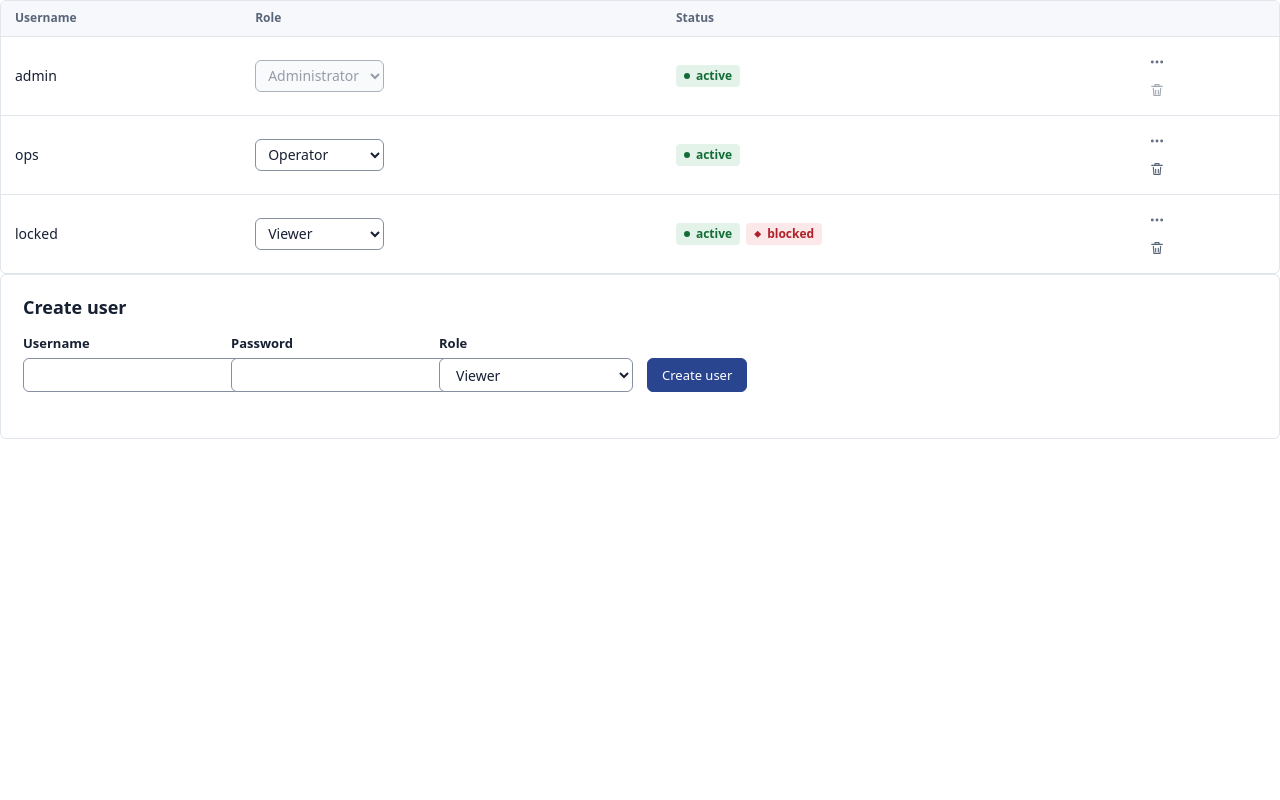
Test: UsersTab delete and unblock › tells the page once a row is deleted, so it can take the keyboard focus (the row and its button are gone), and not when the delete is refused
Expected: the text "ops" is shown, [1, 116, 241, 195]
Step 1. Click the button named "Delete locked" → (1157, 248), box [1143, 234, 1171, 262]
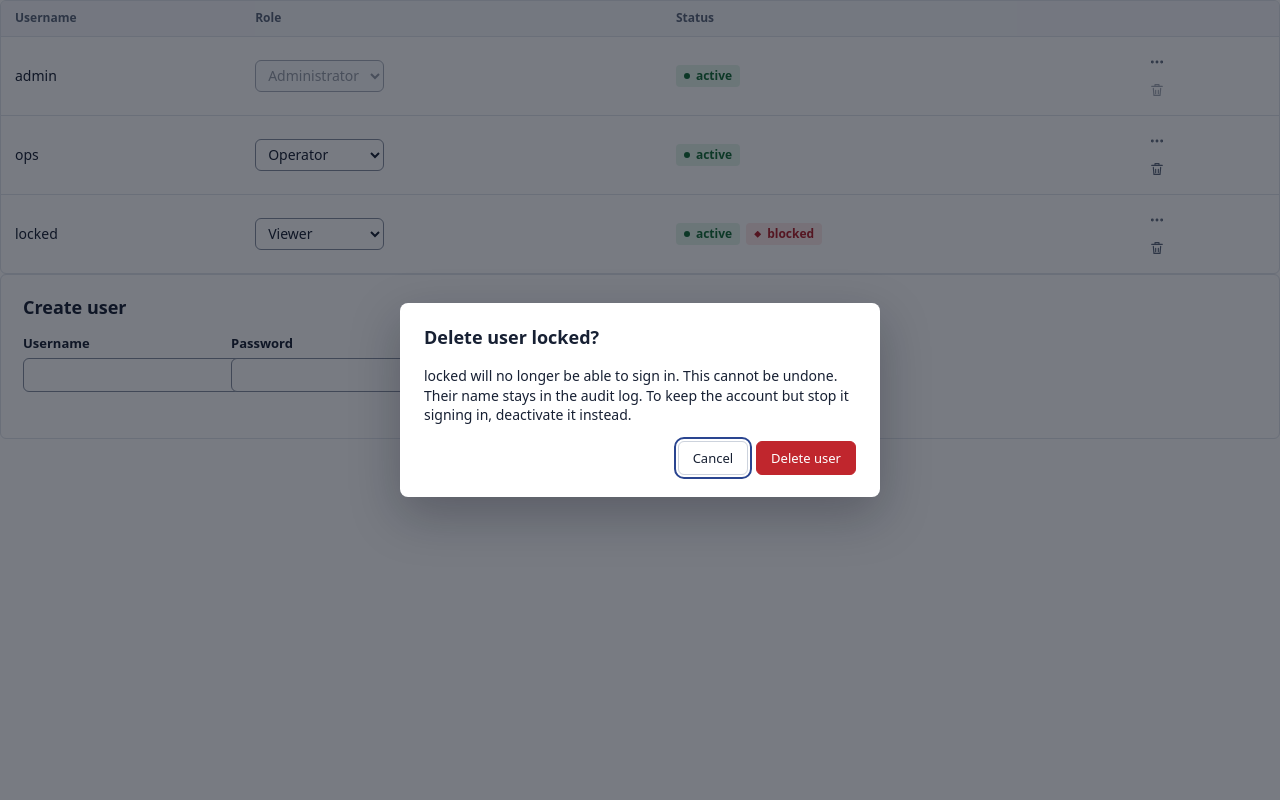
Step 2. Click the button "Delete user" → (806, 458), box [756, 441, 856, 475]
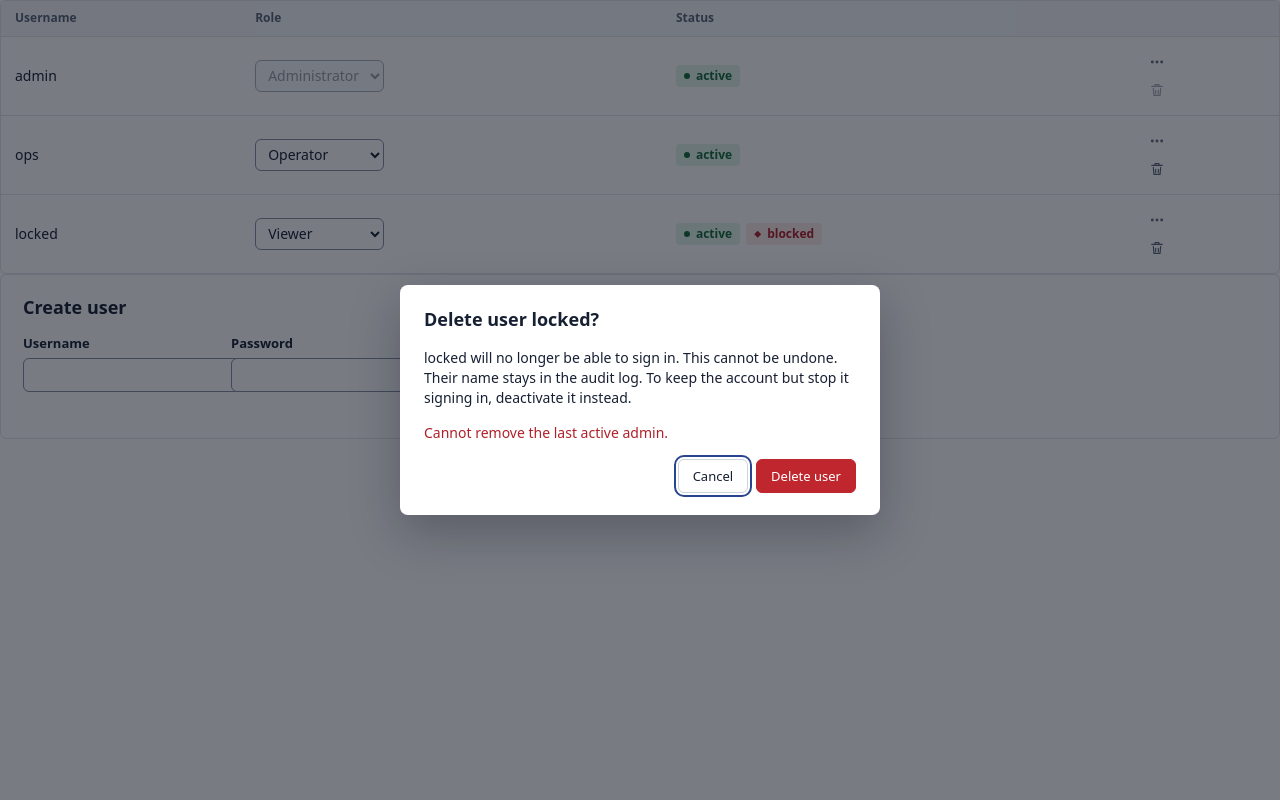
Result: the message "Cannot remove the last active admin." is shown at [424, 423, 668, 442]
Step 3. Click the button "Cancel" → (713, 476), box [678, 459, 748, 493]
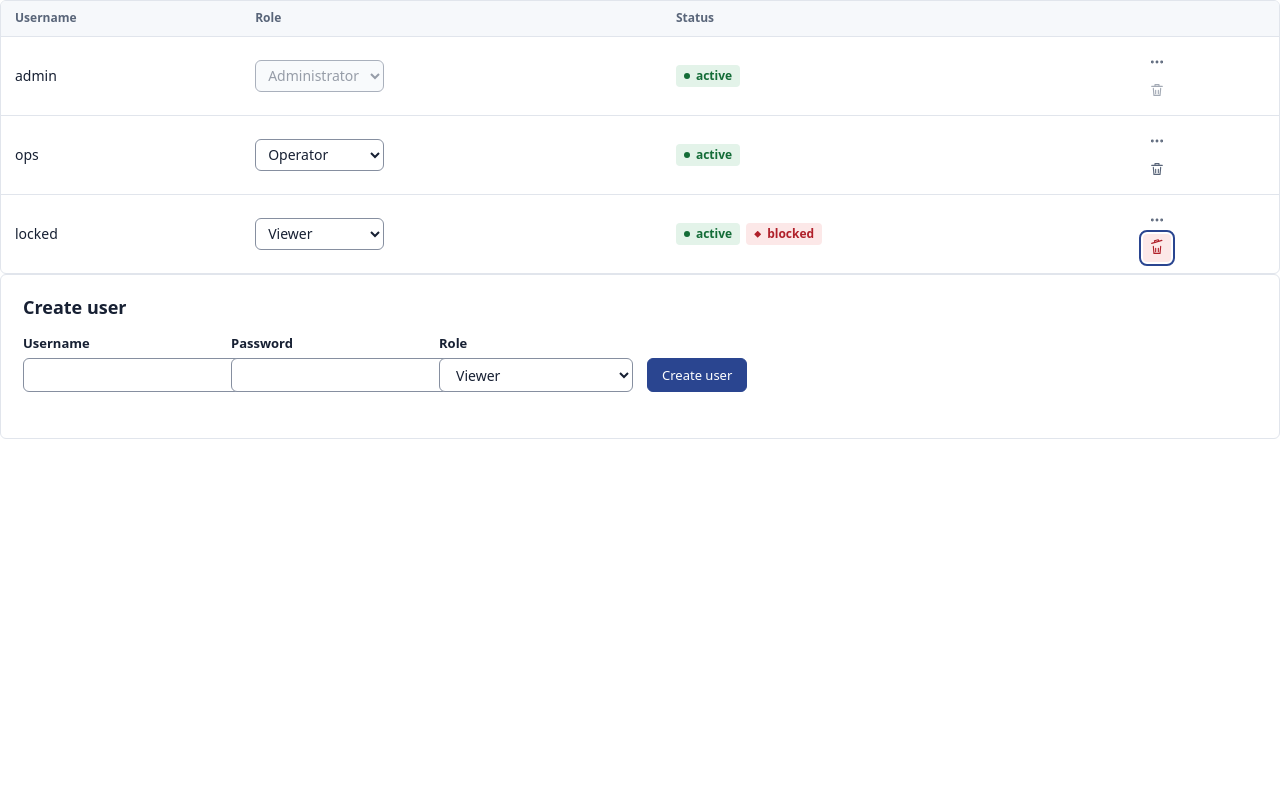
Step 4. Click the button named "Delete ops" → (1157, 169), box [1143, 155, 1171, 183]
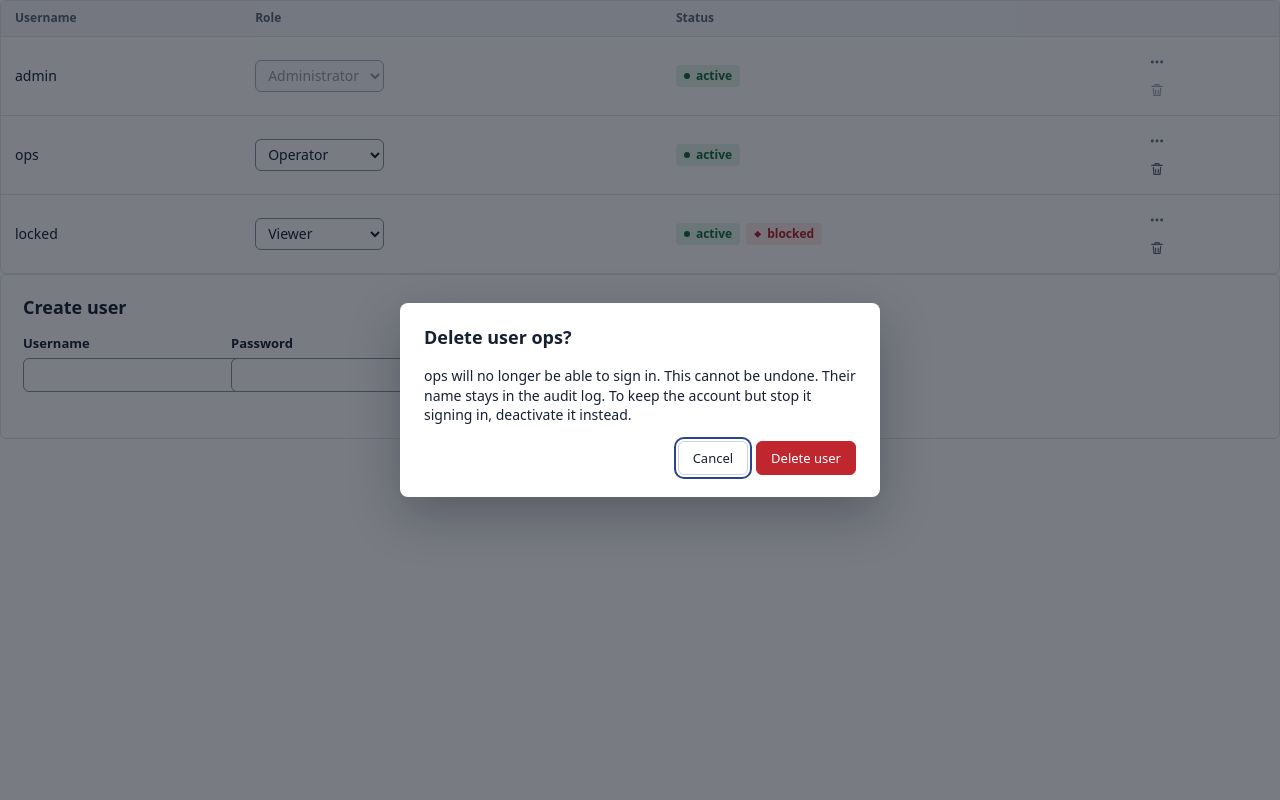
Step 5. Click the button "Delete user" → (806, 458), box [756, 441, 856, 475]
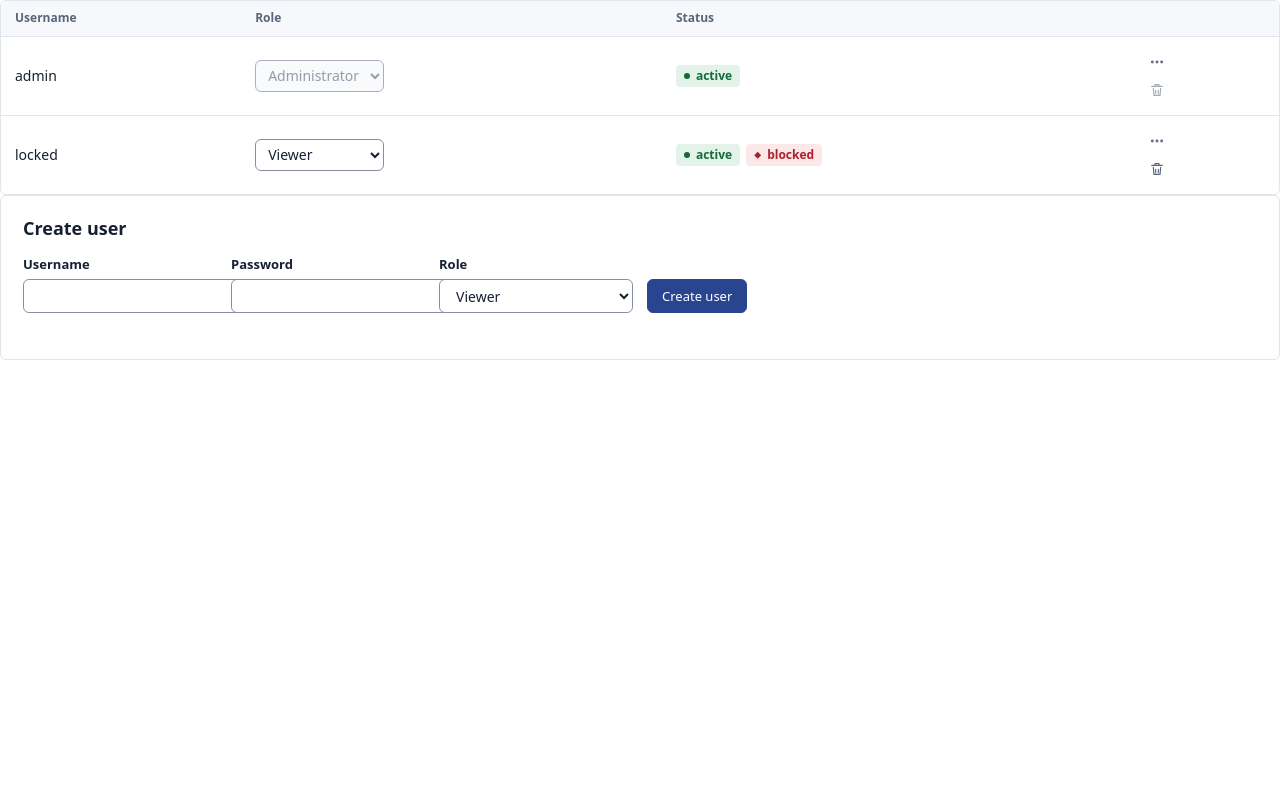
Result: the text "ops" is gone
